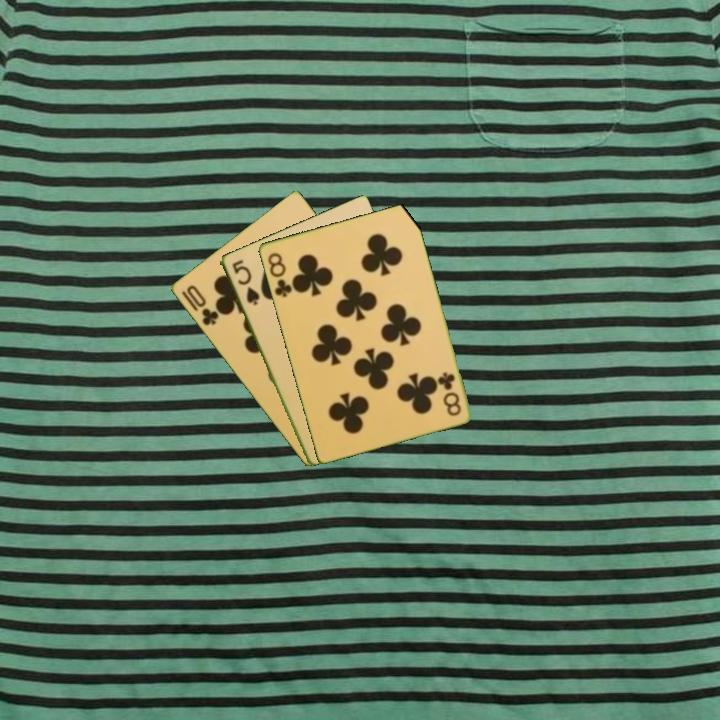10c: (183, 281, 221, 328)
5s: (228, 256, 262, 308)
8c: (264, 249, 295, 300), (434, 368, 464, 419)
